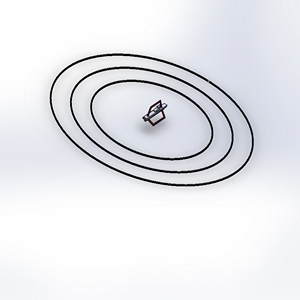circle: (37, 49, 260, 195)
submarine: (139, 95, 176, 132)
